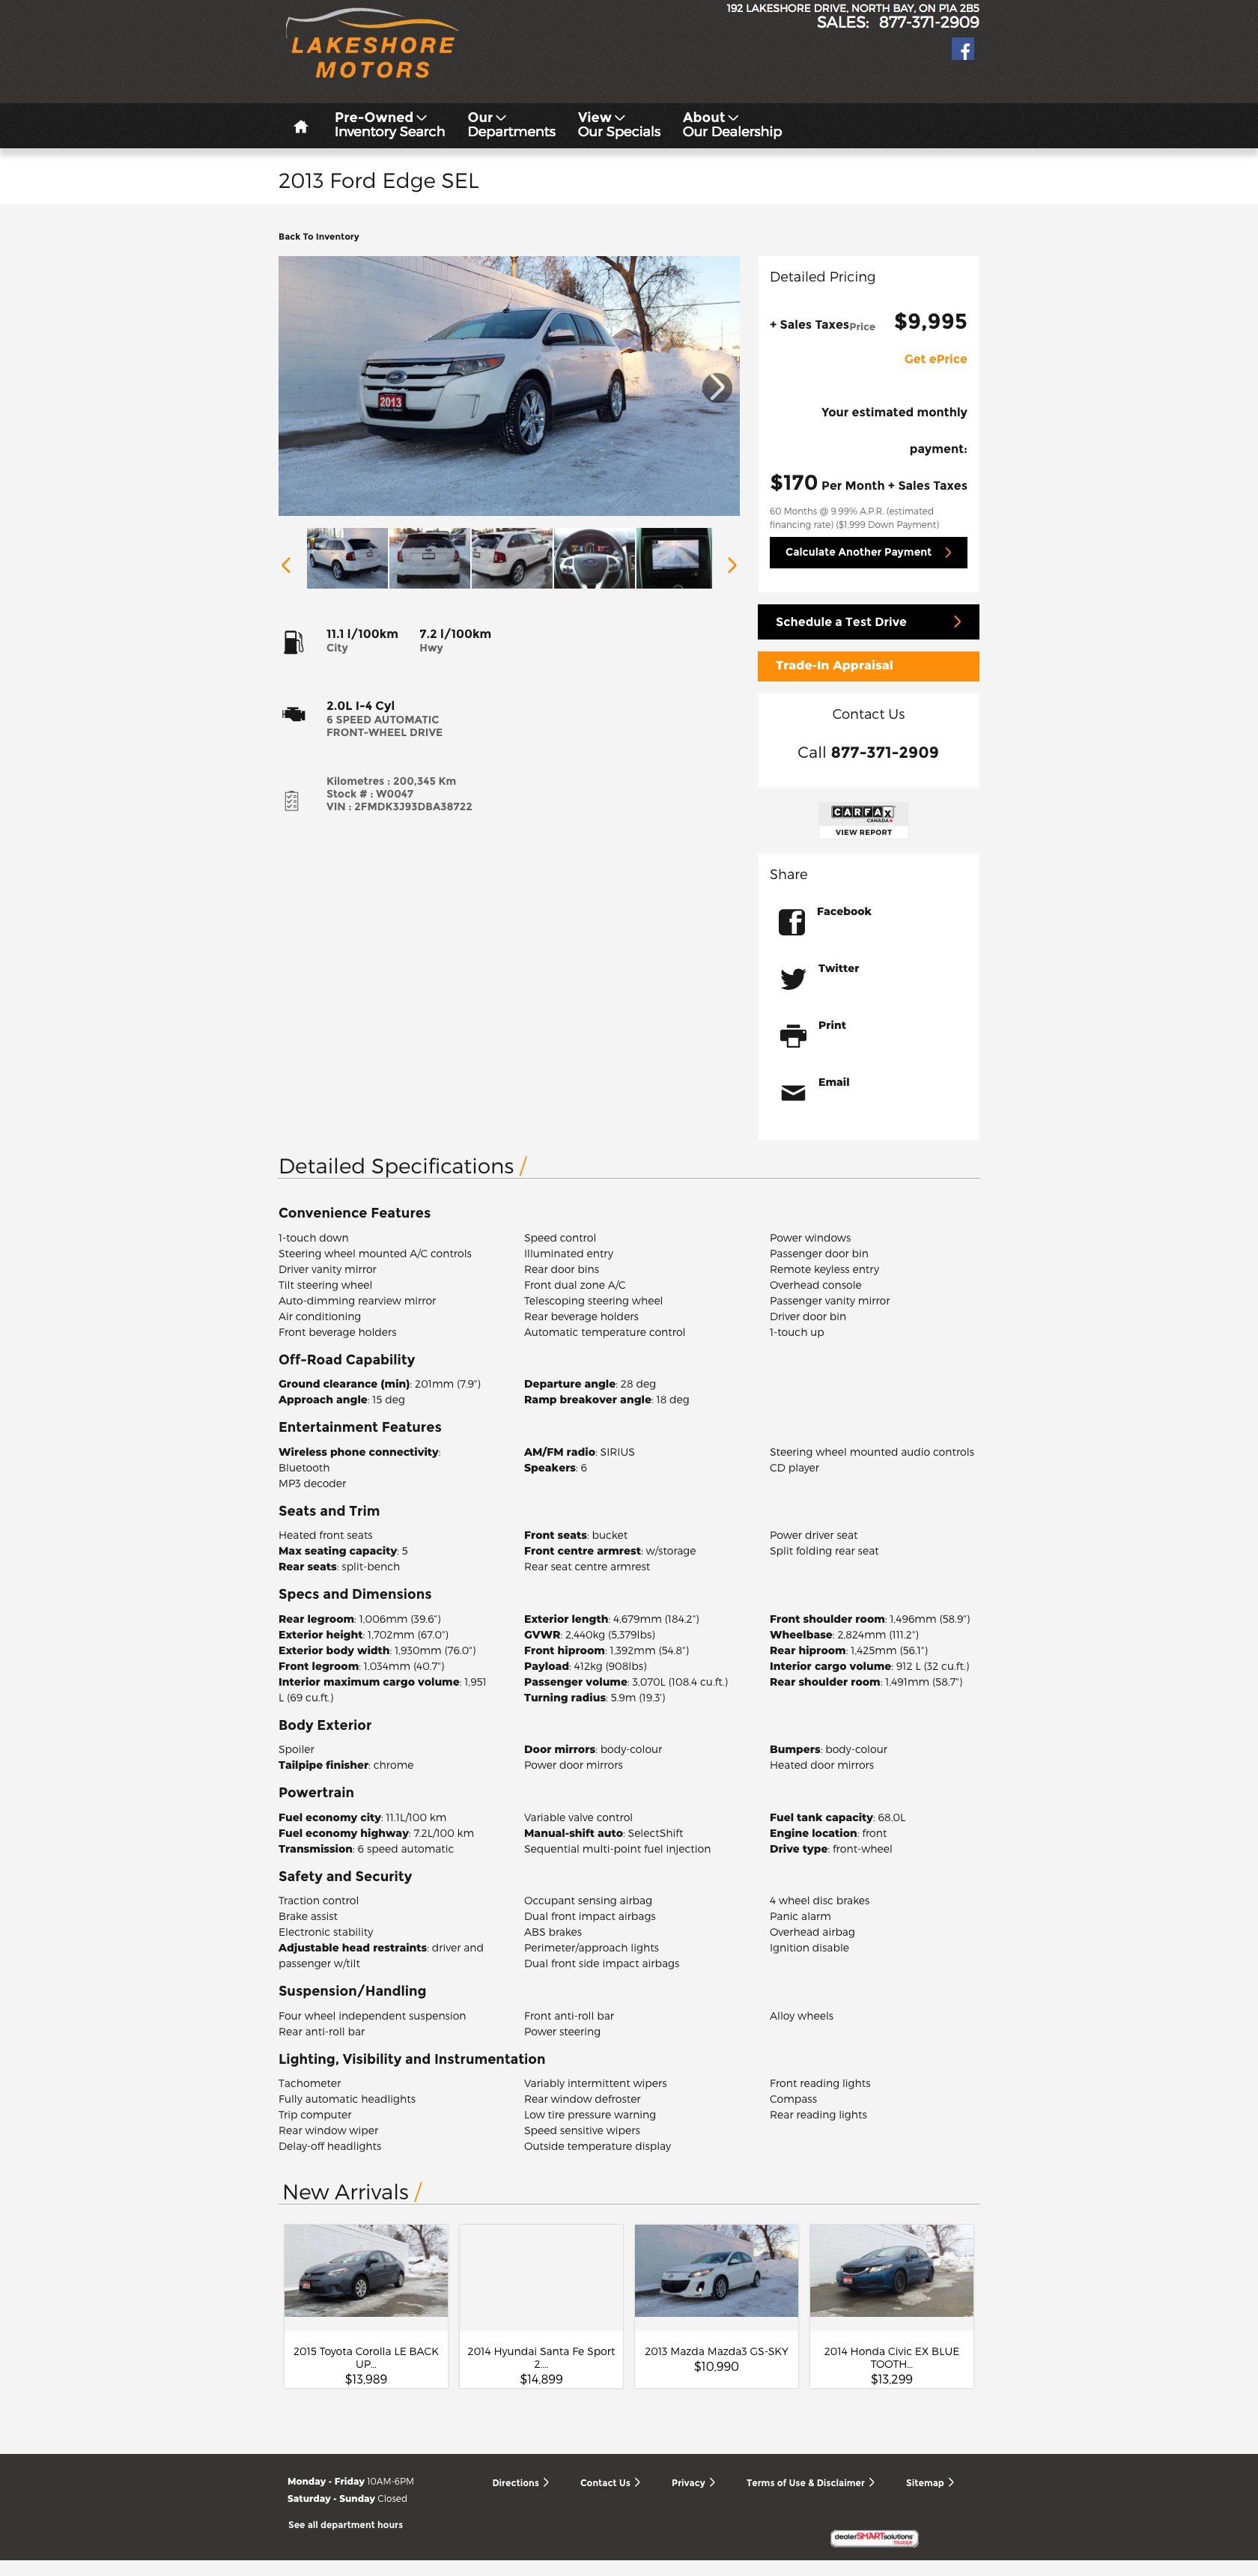car: (728, 557, 737, 577)
